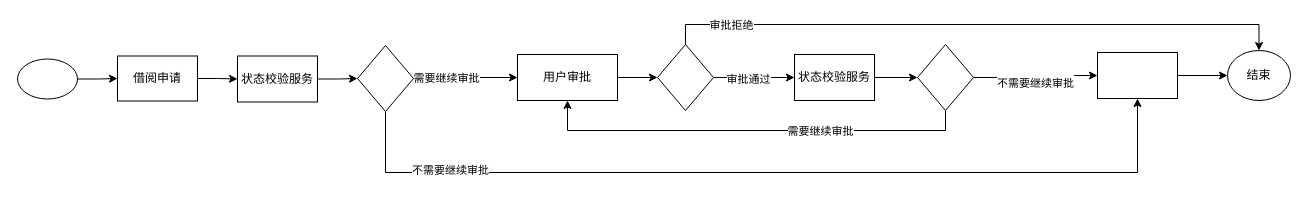
Some shapes in this 1308 by 198 pixel diagram are drawn without their labels. The shapes that lost their labels are listed below. From the top down, each one's centre as x and y in pixels, then its label:
At pixel 47 78: "开始".
At pixel 1137 75: "完成服务".
